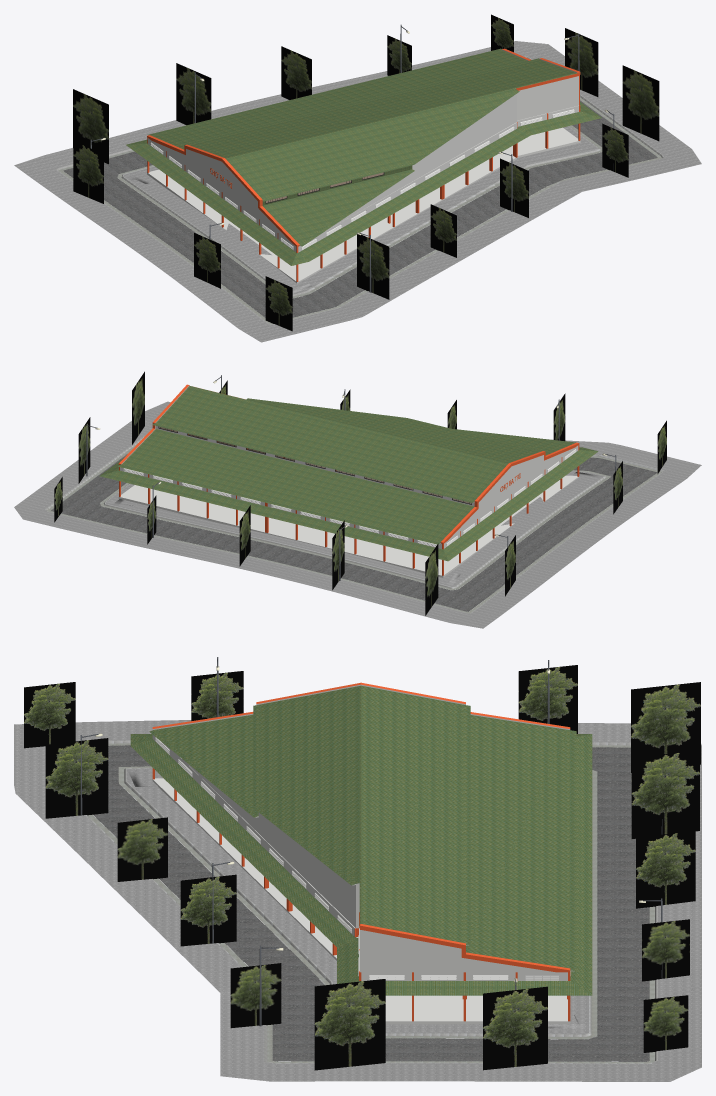
3 views of the same model, one above another, from view 1: azimuth 30°, elevation 25°; view 2: azimuth 150°, elevation 25°; view 3: azimuth 270°, elevation 25° (orthographic). The views are drawn at different scales.
Visible parts, largest first — view 1: Intersection, Vỉa hè, DZR Cây T13#1 (×14), Mặt đường, Component#17, Component#6, Rãnh biên, Component#9, Bó vỉa, Component#7; view 2: Intersection, Vỉa hè, Mặt đường, Component#17, Component#6, DZR Cây T13#1 (×9), Rãnh biên, Bó vỉa, Component#9; view 3: Intersection, DZR Cây T13#1 (×14), Vỉa hè, Mặt đường, Component#17, Component#6, Difference1, Rãnh biên, Bó vỉa, Component#9, Component#7.
Part boxes in pixels (x1,y1,x2,y2): Intersection: (148,48,578,246); Vỉa hè: (14,41,701,342); DZR Cây T13#1 (×14): (73,14,659,331); Mặt đường: (63,100,657,317); Component#17: (126,102,601,265); Component#6: (147,127,580,283); Rãnh biên: (58,97,661,324); Component#9: (147,135,299,246); Bó vỉa: (55,55,664,325); Component#7: (298,122,517,252); Intersection: (118,386,575,544); Vỉa hè: (14,401,701,628); Mặt đường: (51,434,657,611); Component#17: (99,447,598,561); Component#6: (118,463,579,577); DZR Cây T13#1 (×9): (78,371,666,615); Rãnh biên: (47,444,661,613); Bó vỉa: (45,435,664,613); Component#9: (440,442,579,543); Intersection: (149,685,576,971); DZR Cây T13#1 (×14): (24,665,700,1070); Vỉa hè: (14,720,701,1081); Mặt đường: (93,745,649,1061); Component#17: (130,734,592,995); Component#6: (152,778,570,1024); Difference1: (360,924,570,972); Rãnh biên: (87,743,654,1063); Bó vỉa: (85,740,657,1063); Component#9: (152,682,570,729); Component#7: (152,735,355,936).
Bounding box in the file's own units: 76.66 × 10.43 × 62.37.
Materials: 14 (7 with a texture image).
